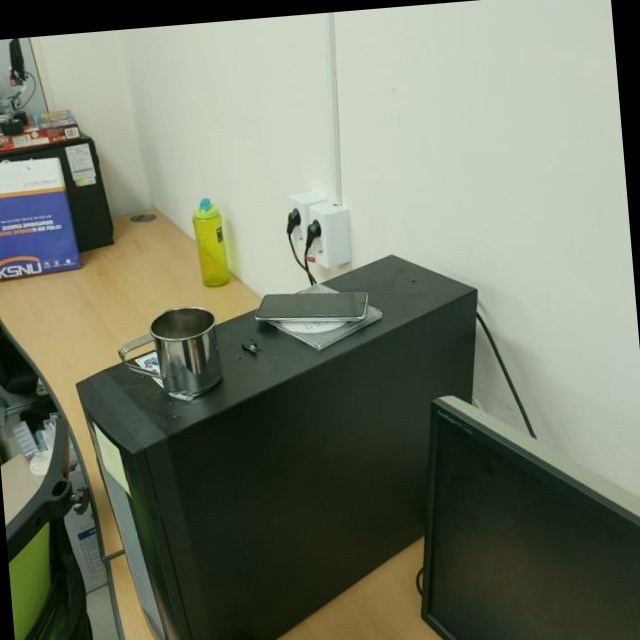cup: (117, 302, 227, 400)
phone: (254, 282, 372, 332)
